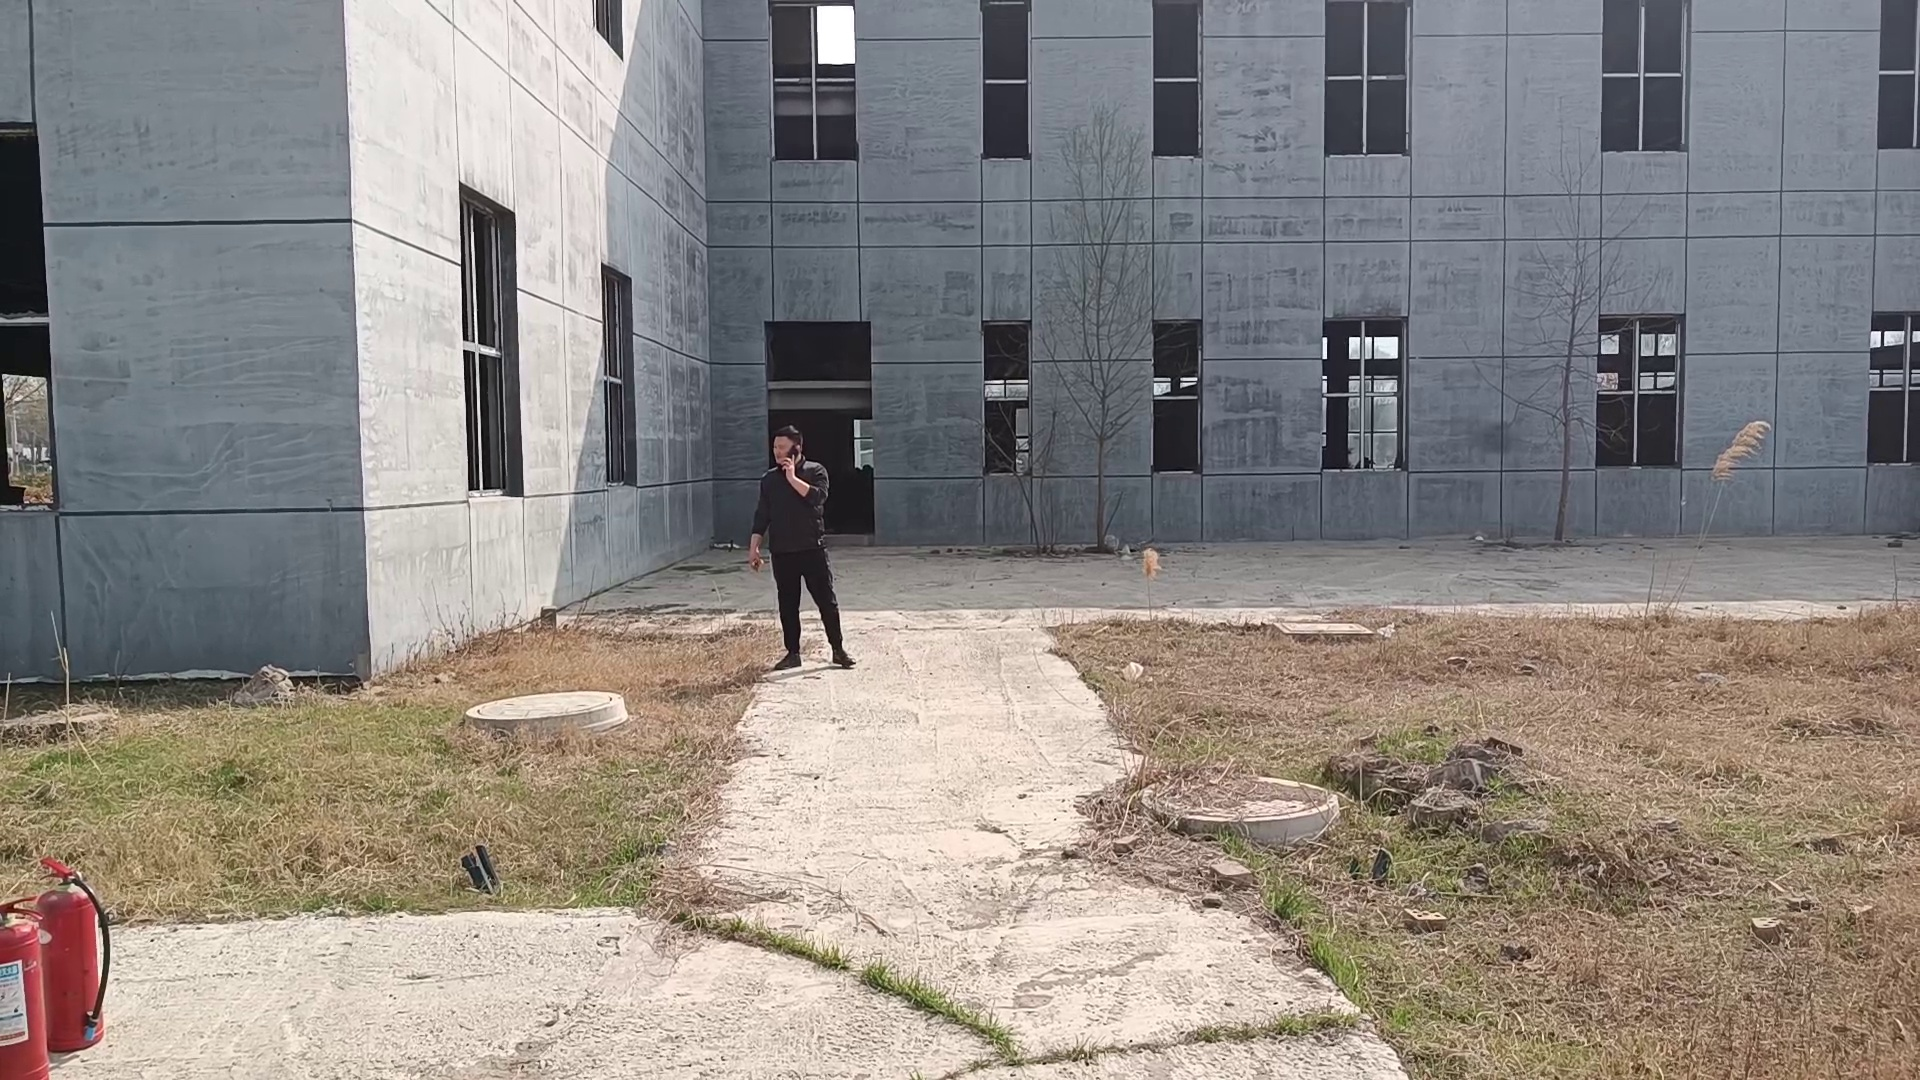phone: (770, 421, 802, 473)
